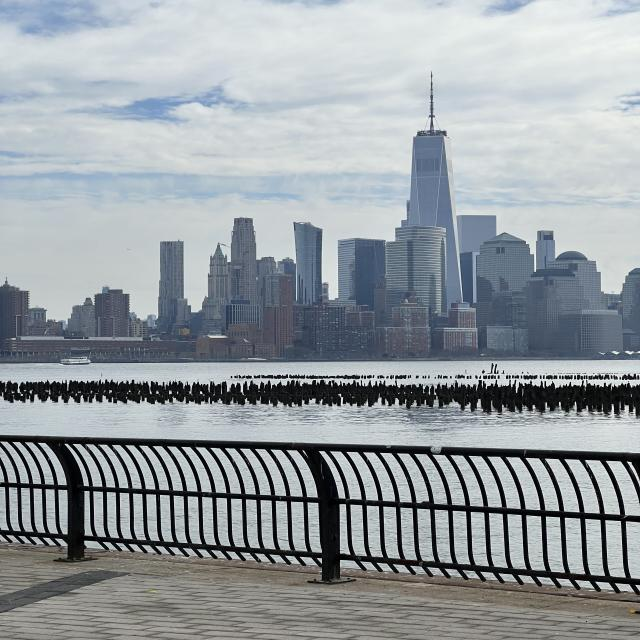WTC: (402, 69, 460, 227)
